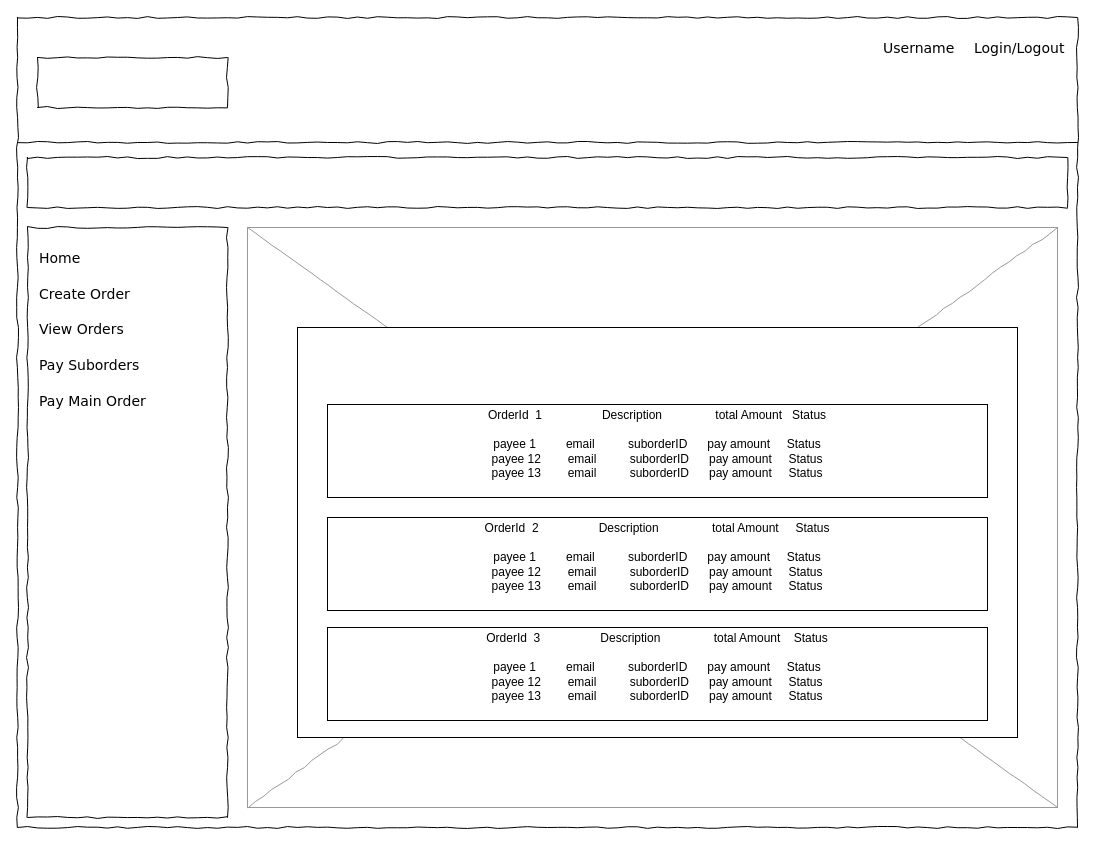
Some shapes in this 1095 by 845 pixel diagram are drawn without their labels. The centre of each missing label's shape, as x and y in pixels:
LOGO: [132,82]
View Order: [547,182]
